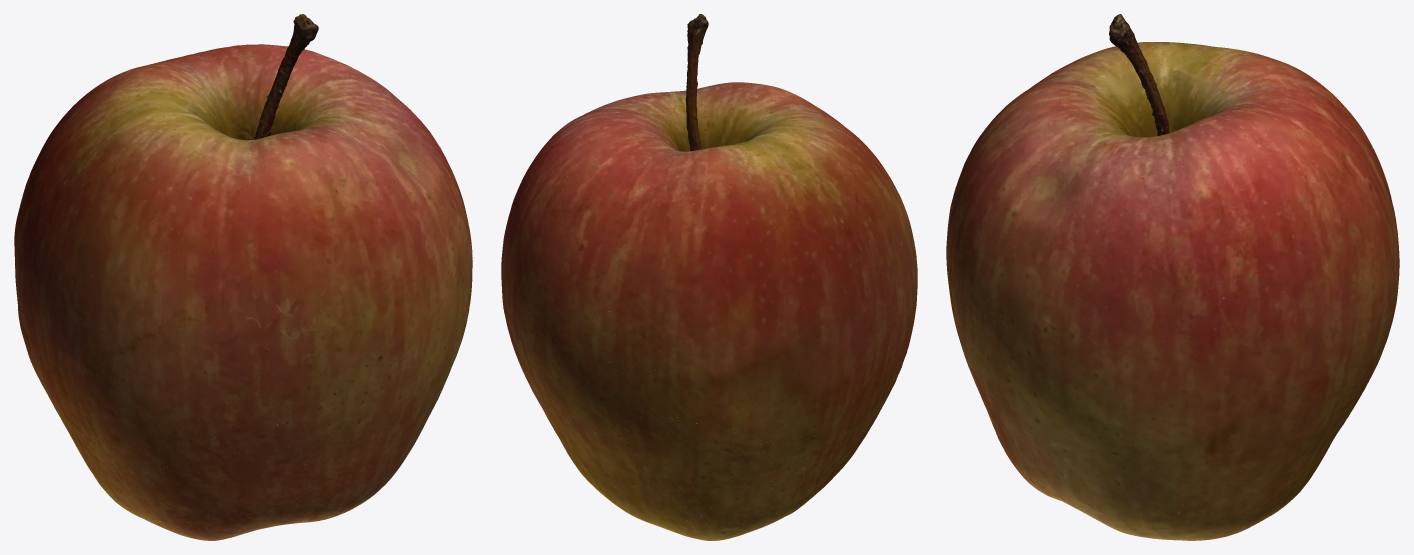
Rendered from 静物_水果_apple_20260324195226_opt.glb.
3 views of the same model, side by side, from view 1: azimuth 30°, elevation 25°; view 2: azimuth 150°, elevation 25°; view 3: azimuth 270°, elevation 25° (orthographic). The views are drawn at different scales.
Parts seen in each view (by area): view 1: Object_2; view 2: Object_2; view 3: Object_2.
Boxes of the visible parts, box(x1,y1,x2,y2) form: Object_2: box(14, 14, 472, 540); Object_2: box(501, 14, 917, 540); Object_2: box(946, 14, 1399, 540).
Size of the model in its own units: 0.0602 by 0.0756 by 0.0599.
Materials: 1 (1 with a texture image).
